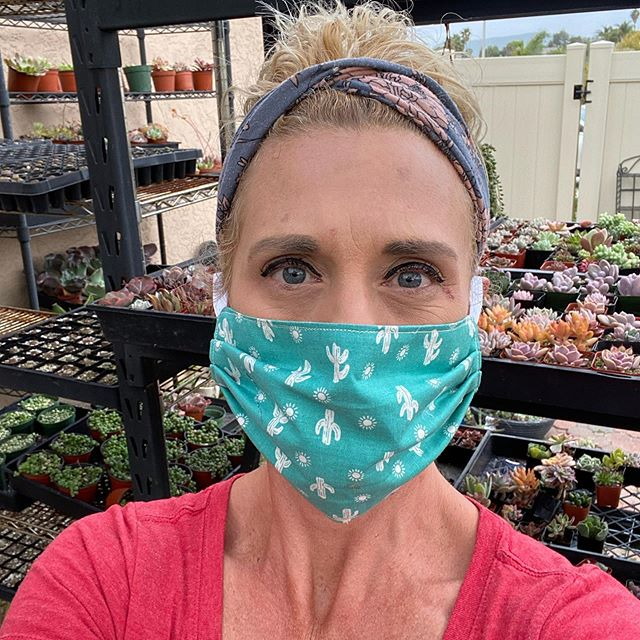homemade: (201, 298, 505, 530)
